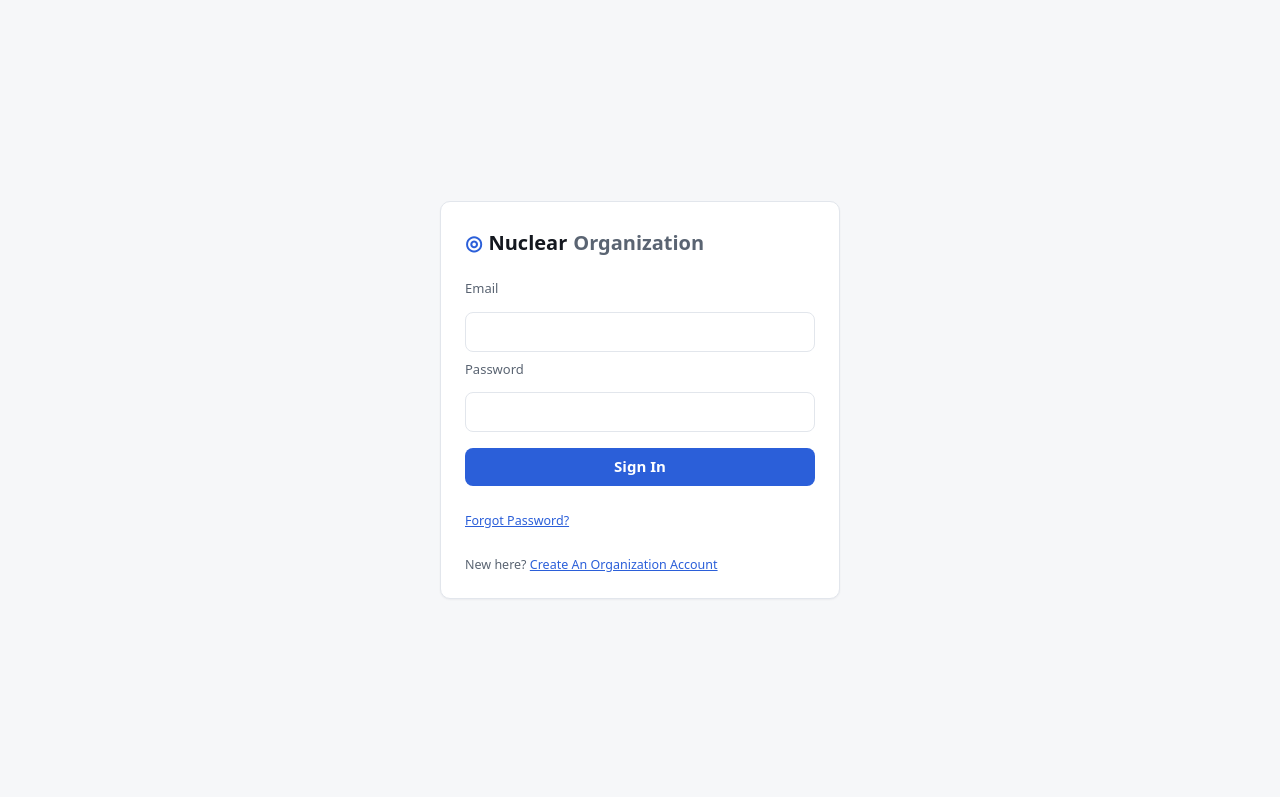
Test: organization portal › shows empty details with an Edit button when no profile has been saved yet
In the field labelled "Email": (640, 332) [465,312,815,352], type "HR@Acme.test"
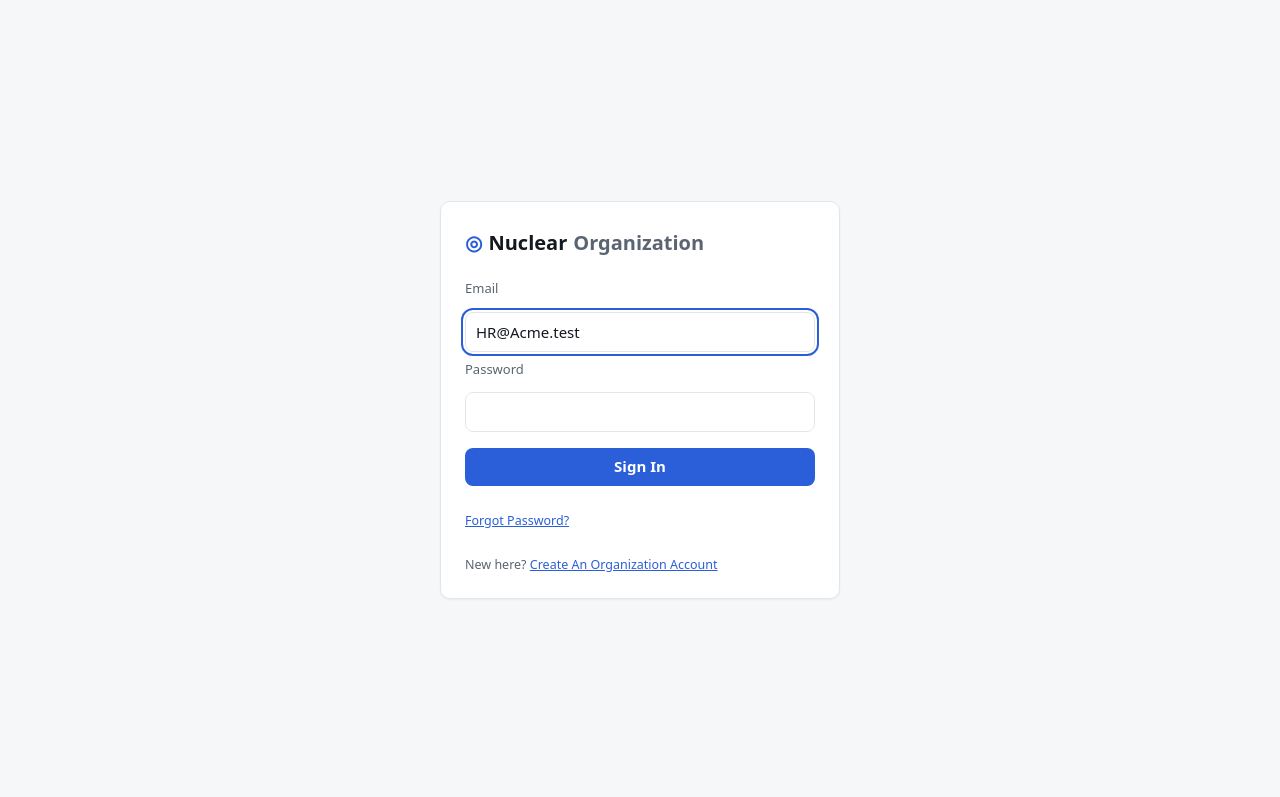
In the password field labelled "Password": (640, 412) [465,392,815,432], type "correct horse battery"
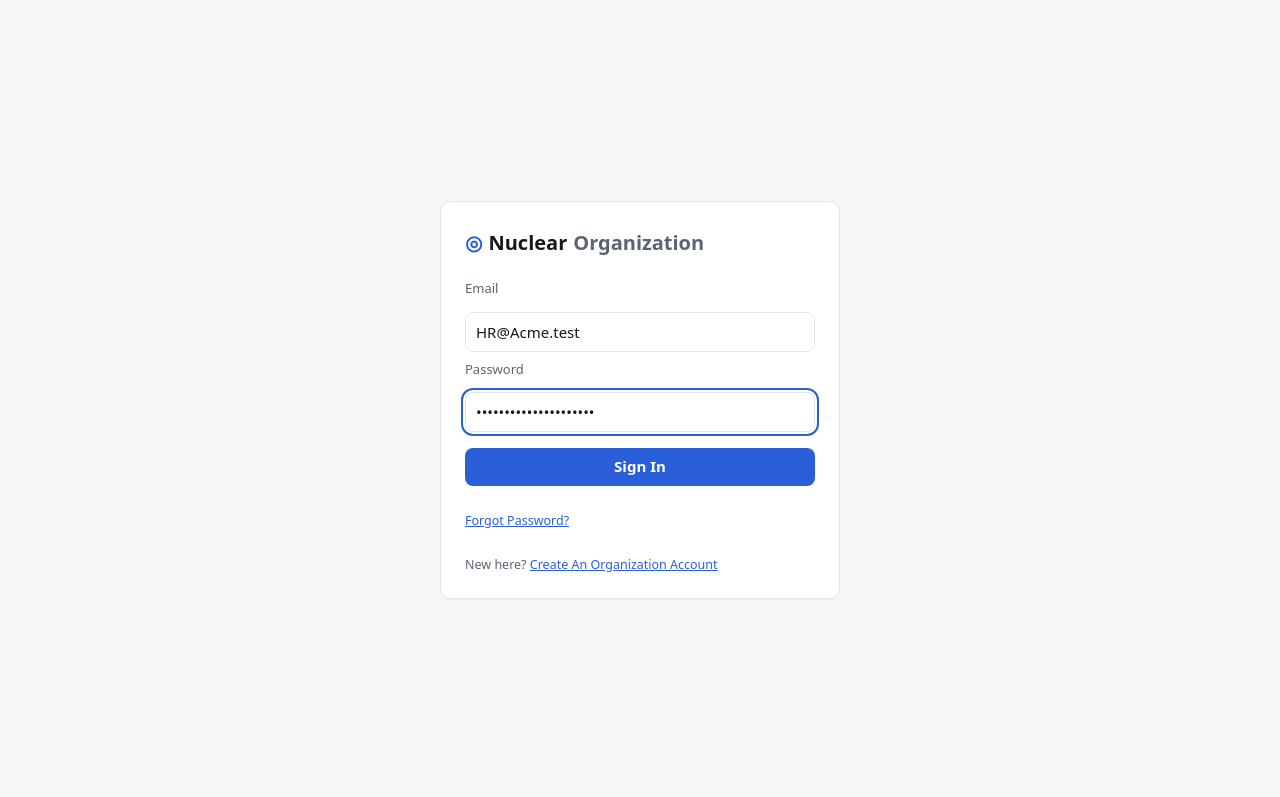
Click the button "Sign In": (640, 467) [465,448,815,486]
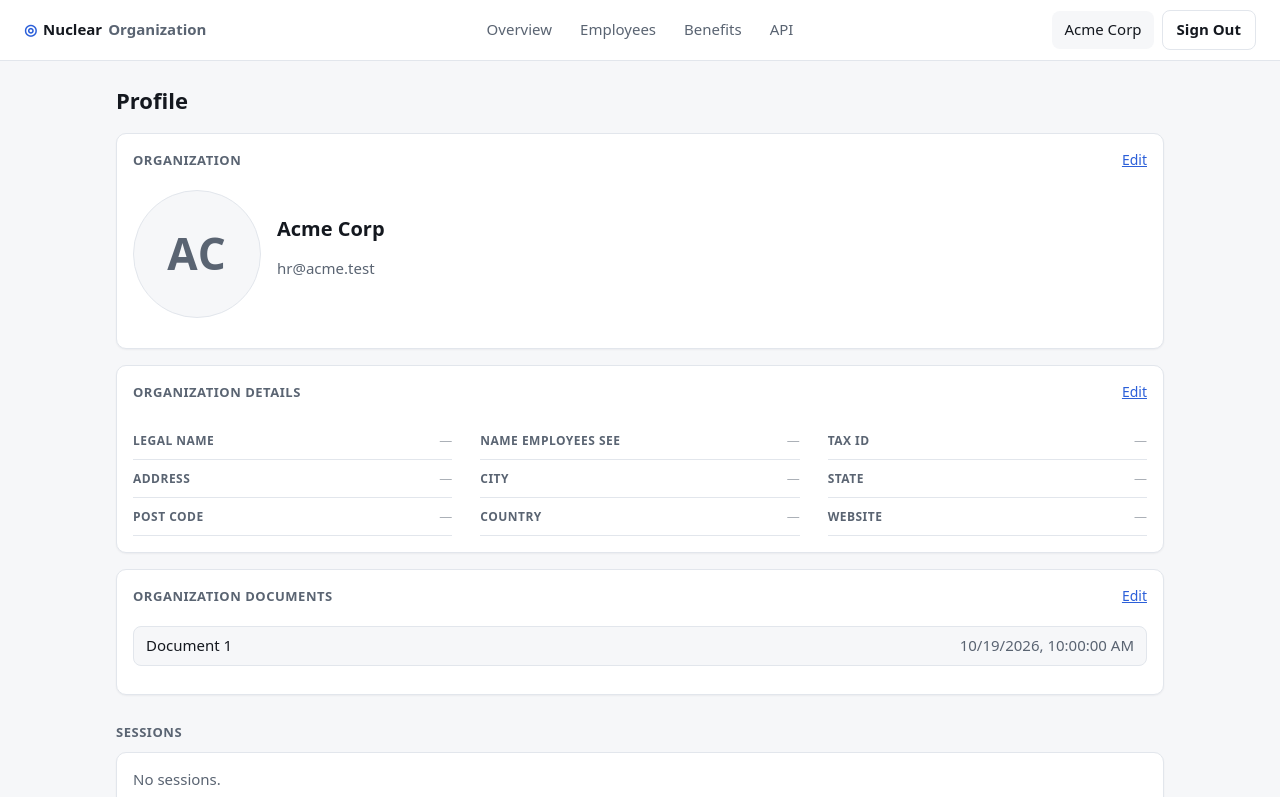
Click the button "Edit" in the row of "Organization Details": (1134, 392) [1122,382,1147,402]
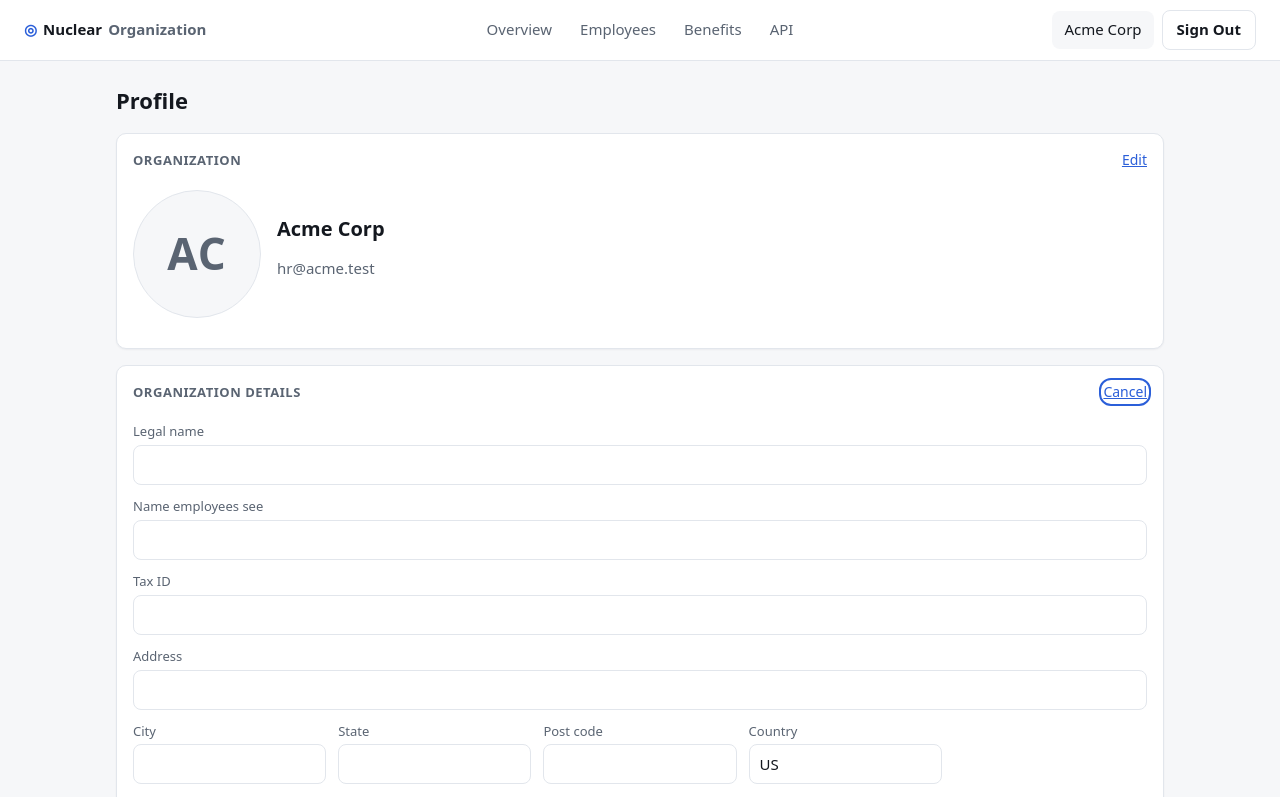
Expected: the field labelled "Legal name" is empty, [133,445,1147,485]
Expected: the field labelled "Country" holds "US", [749,744,942,784]
